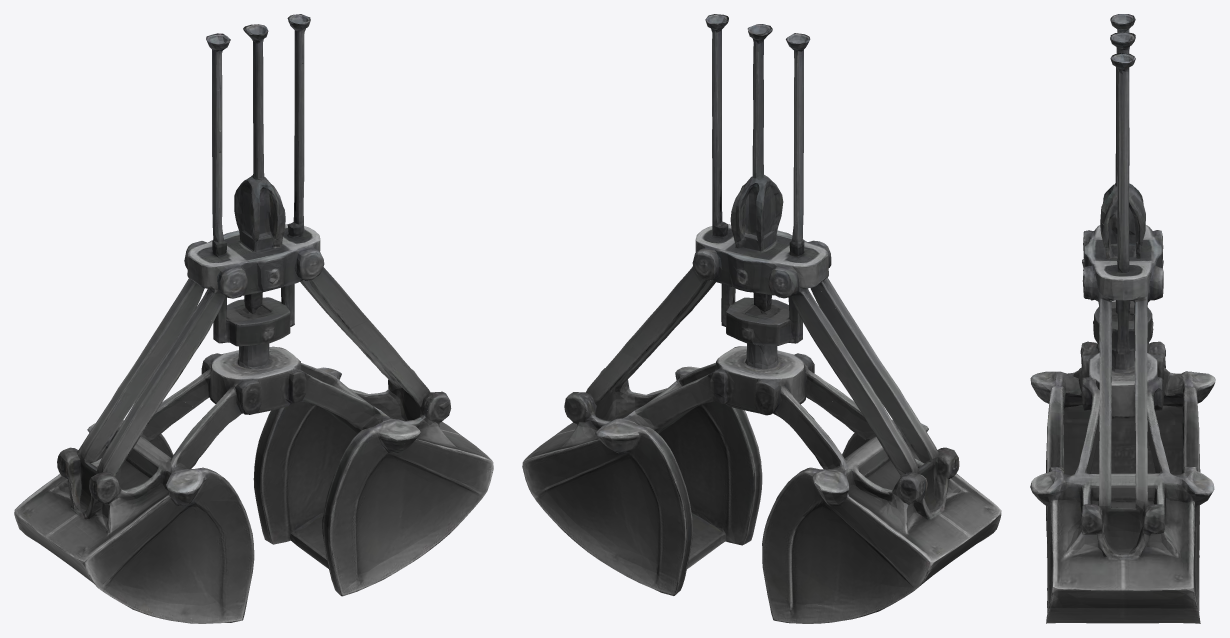
Rendered from grab5.d.glb.
The picture shows the model from 3 angles, left to right: view 1: azimuth 30°, elevation 25°; view 2: azimuth 150°, elevation 25°; view 3: azimuth 270°, elevation 25°; orthographic projection.
Parts seen in each view (by area): view 1: jawR, jawL, frame, armL, armR; view 2: jawR, jawL, frame, armL, armR; view 3: jawR, frame, jawL, armR, armL.
Part boxes in pixels (box(x1,y1,x2,y2)): jawR: box(253, 363, 493, 596); jawL: box(14, 386, 254, 623); frame: box(182, 14, 324, 435); armL: box(57, 279, 216, 493); armR: box(302, 269, 450, 414); jawR: box(522, 362, 762, 595); jawL: box(762, 380, 1001, 623); frame: box(682, 14, 837, 430); armL: box(803, 283, 959, 491); armR: box(564, 276, 714, 416); jawR: box(1030, 407, 1214, 623); frame: box(1082, 14, 1163, 418); jawL: box(1030, 357, 1215, 557); armR: box(1080, 299, 1165, 526); armL: box(1080, 341, 1165, 364).
Size of the model in its own units: 0.7935 by 1 by 0.3079.
Materials: 1 (1 with a texture image).
